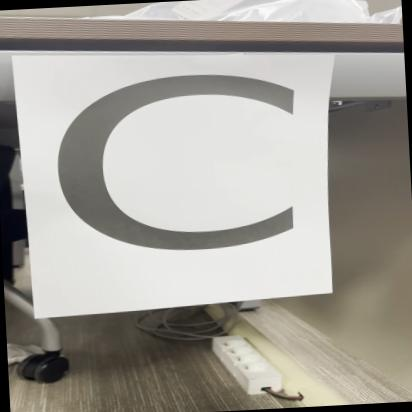seat: (18, 43, 338, 306)
